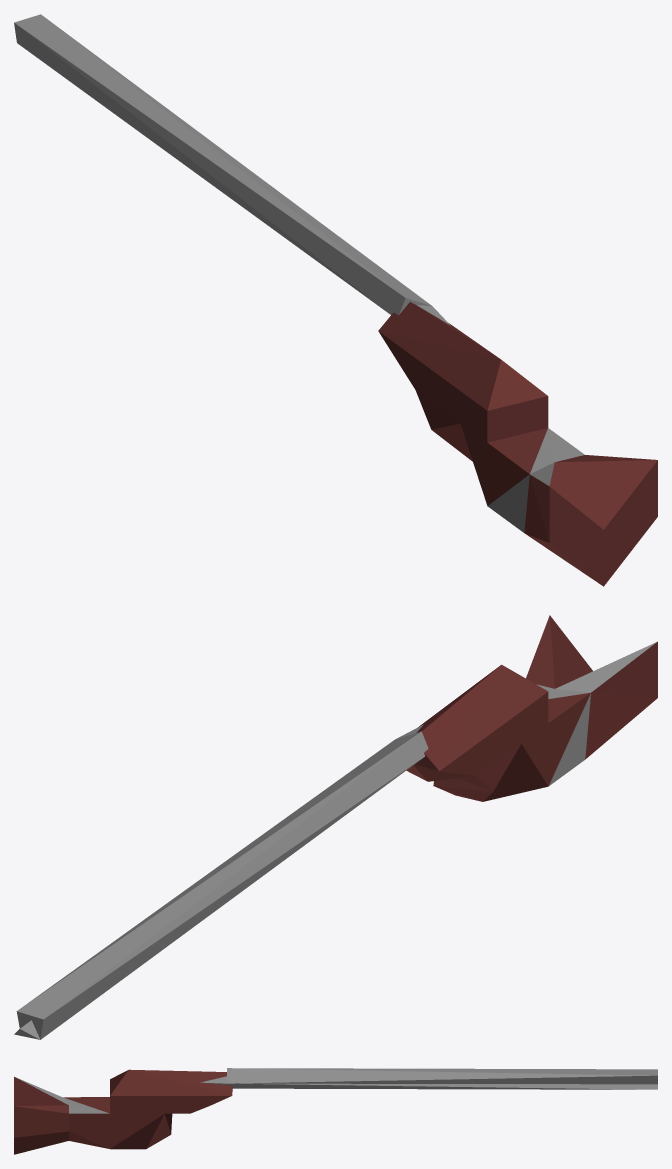
File: simple_riffle_decimated.fbx
3 views of the same model, one above another, from view 1: azimuth 30°, elevation 25°; view 2: azimuth 150°, elevation 25°; view 3: azimuth 270°, elevation 25° (orthographic). The views are drawn at different scales.
Parts seen in each view (by area): view 1: riffle; view 2: riffle; view 3: riffle.
Part boxes in pixels (<box>): riffle: <box>14,14,657,586</box>; riffle: <box>14,615,657,1039</box>; riffle: <box>14,1068,657,1154</box>.
Bounding box in the file's own units: 47.32 × 63.42 × 435.
